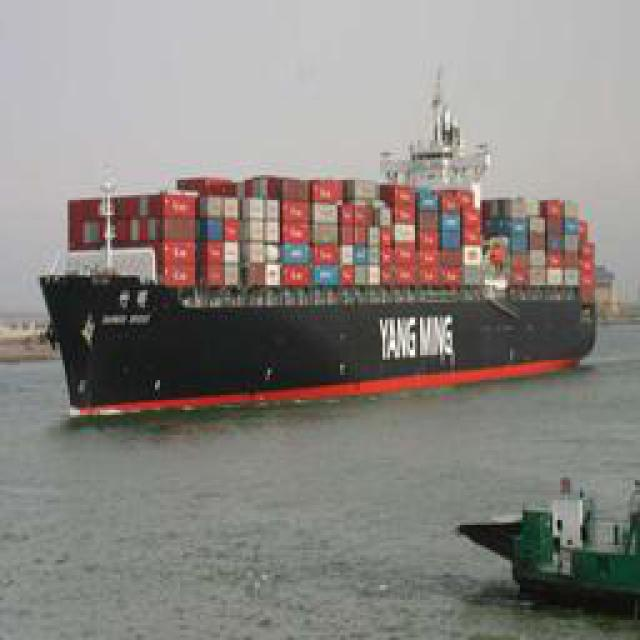Ship: (30, 160, 620, 424), (462, 474, 640, 617)
